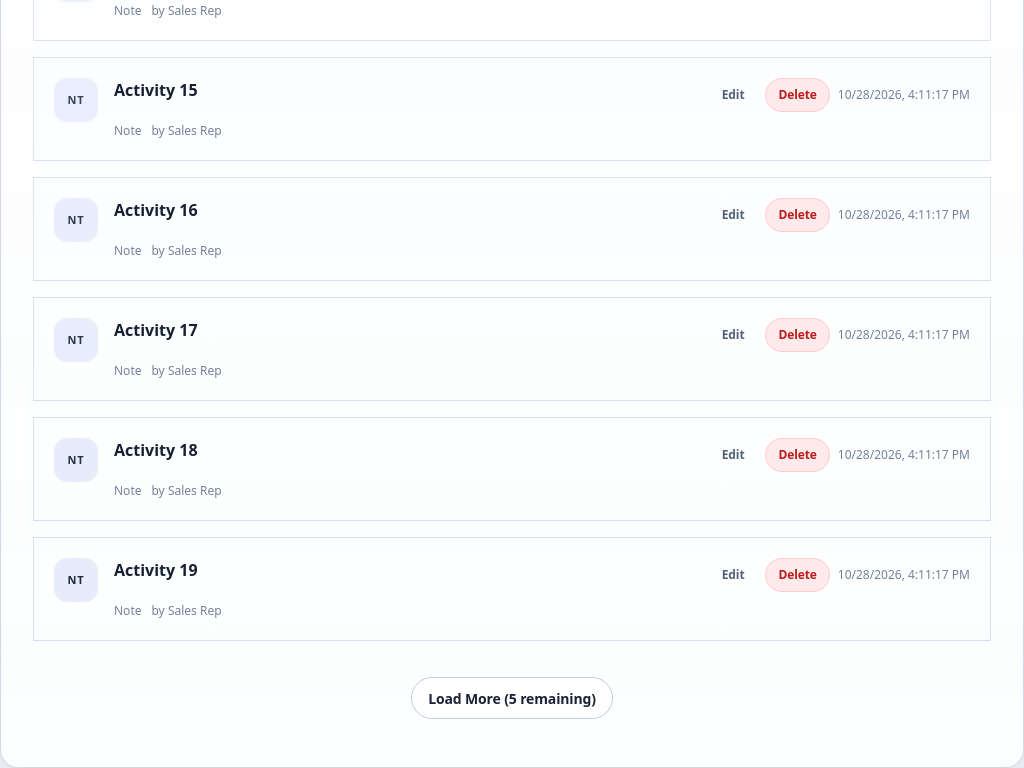
Test: ActivitiesPage › loads more activities when load more is clicked
(page scrolled)
Click load more
Click the button "Load More (5 remaining)".
click(512, 698)  # box x1=411 y1=677 x2=613 y2=719
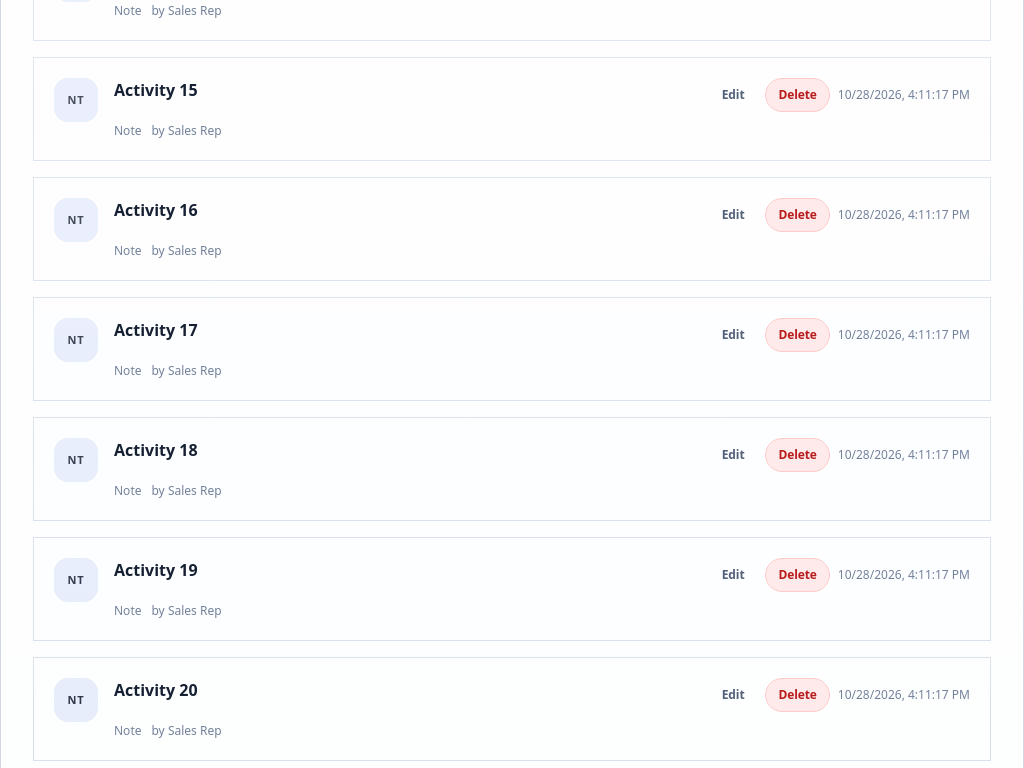
Expected: the button "5 remaining" is gone
